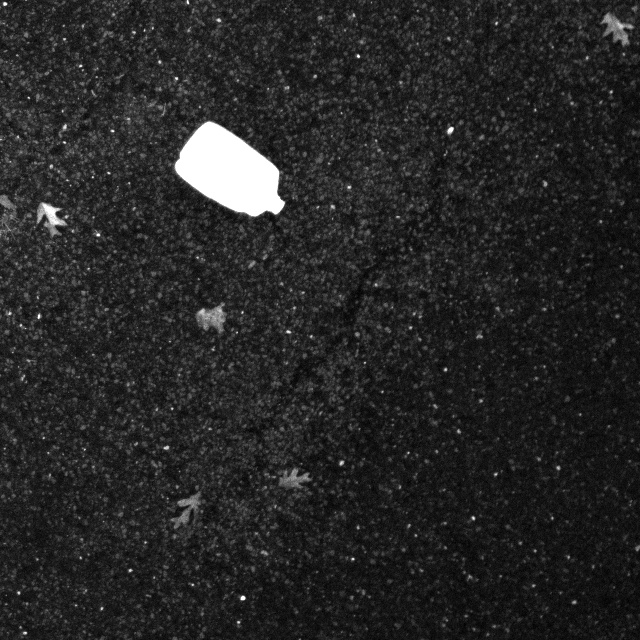can: (167, 118, 288, 218)
